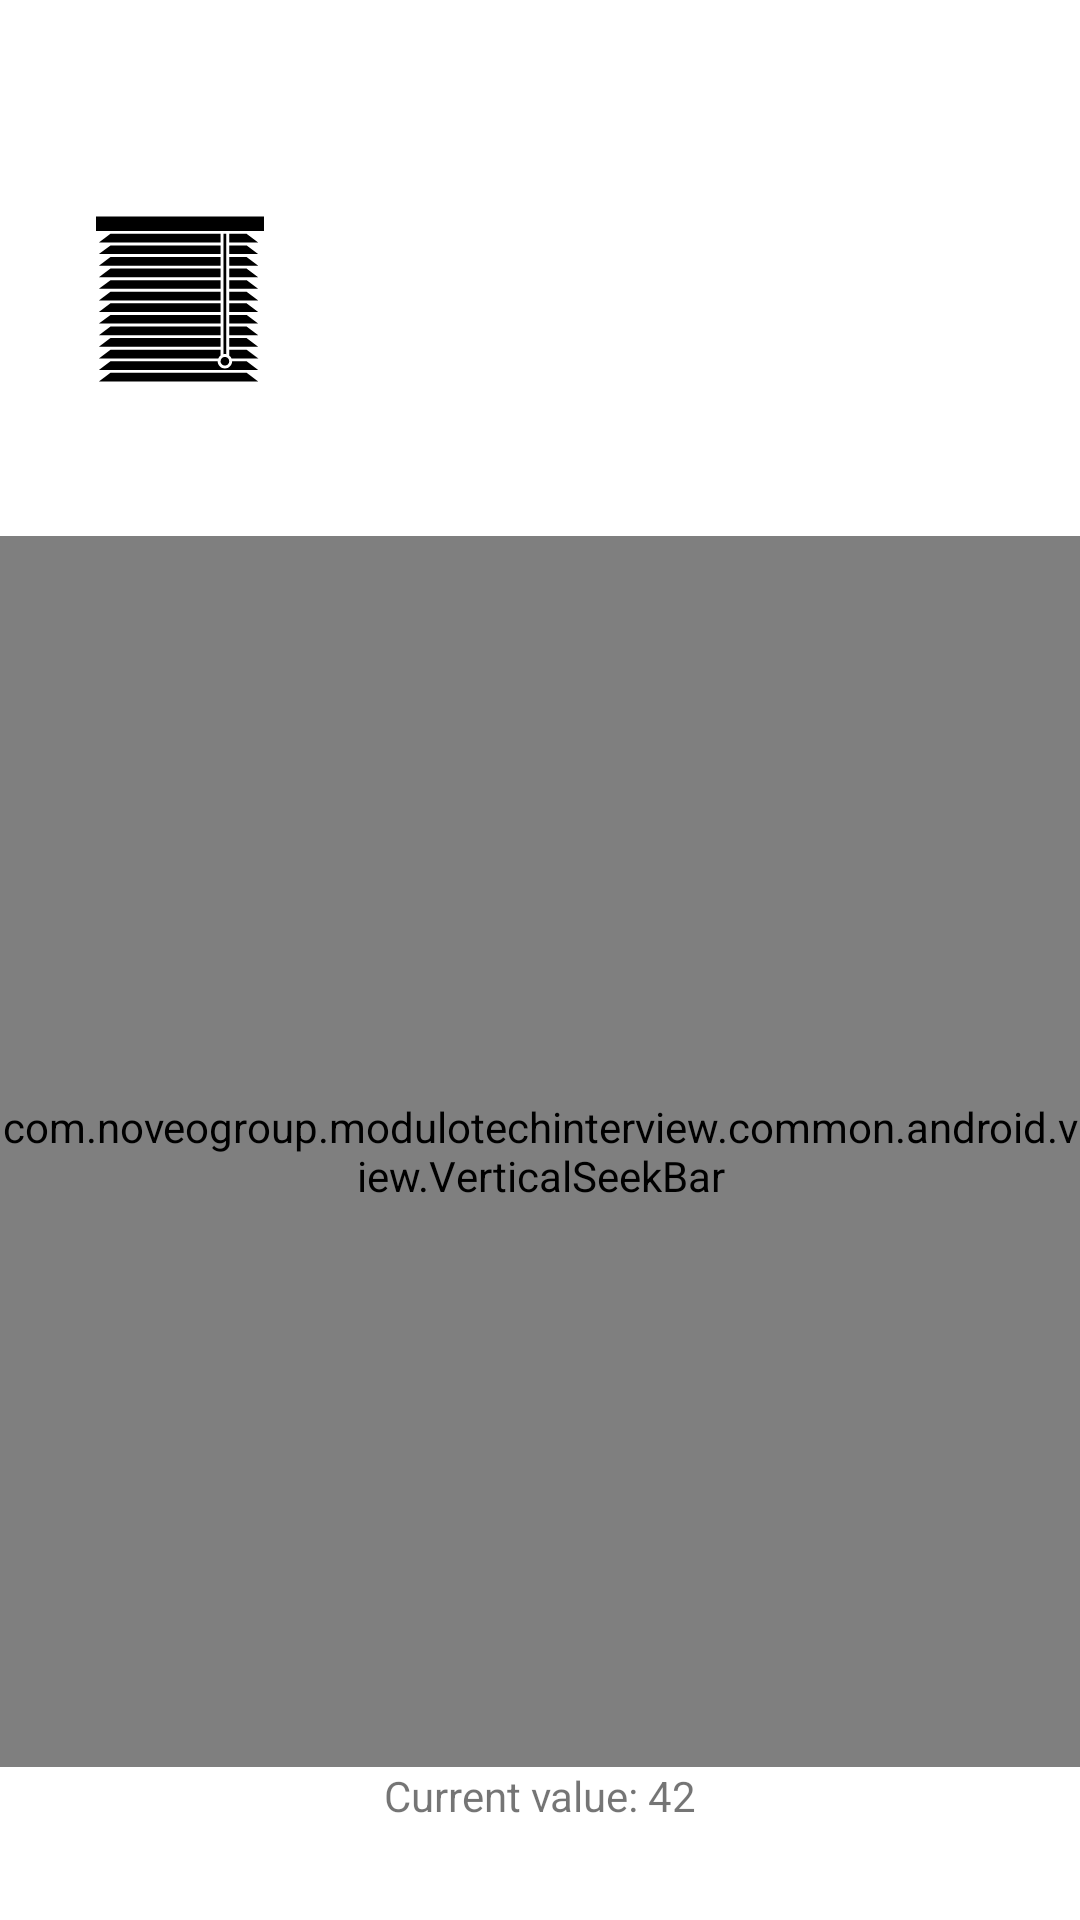

Icons on this 1080 × 1920 Android screen, each with the point to tap as (x,y):
shutters: (180,299)
